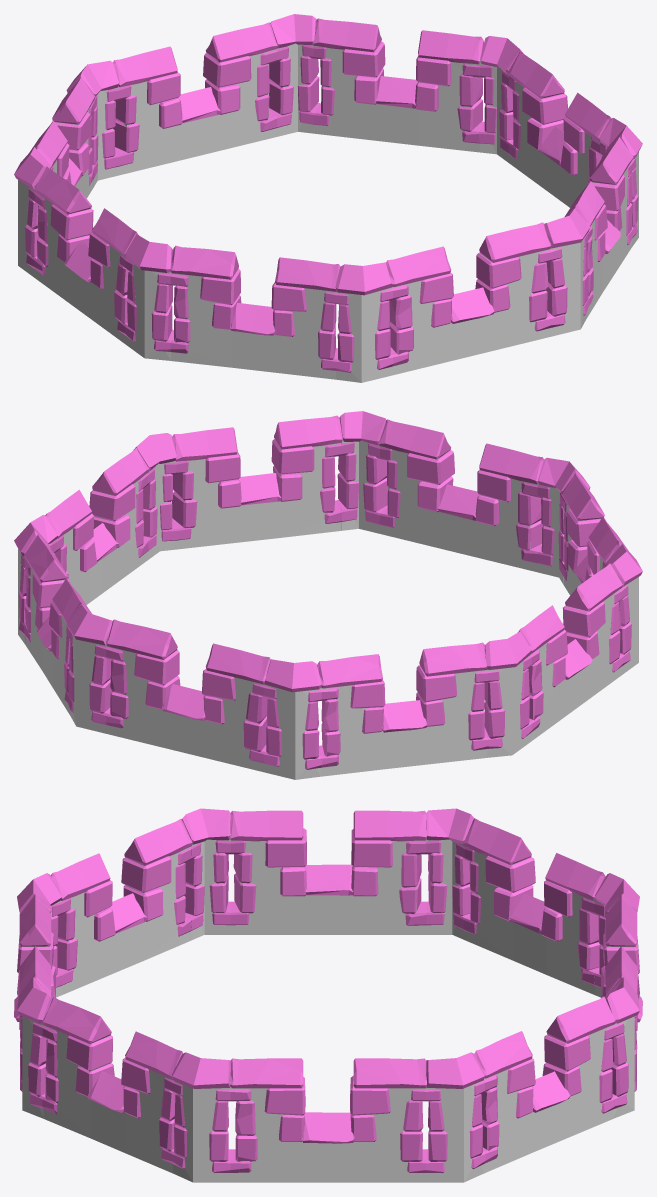
File: SM_Tower_Round_9m_Crenelations_Fantasy.fbx
3 renders of one model, top to bottom at view 1: azimuth 30°, elevation 25°; view 2: azimuth 150°, elevation 25°; view 3: azimuth 270°, elevation 25°, orthographic. The views are drawn at different scales.
Parts seen in each view (by area): view 1: SM_Tower_Round_9m_Crenelations_Fantasy; view 2: SM_Tower_Round_9m_Crenelations_Fantasy; view 3: SM_Tower_Round_9m_Crenelations_Fantasy.
Boxes of the visible parts, bbox=[...] form: SM_Tower_Round_9m_Crenelations_Fantasy: bbox=[14, 14, 642, 382]; SM_Tower_Round_9m_Crenelations_Fantasy: bbox=[14, 411, 642, 779]; SM_Tower_Round_9m_Crenelations_Fantasy: bbox=[14, 808, 642, 1182].
Bounding box in the file's own units: 9.66 × 2.03 × 9.66.
